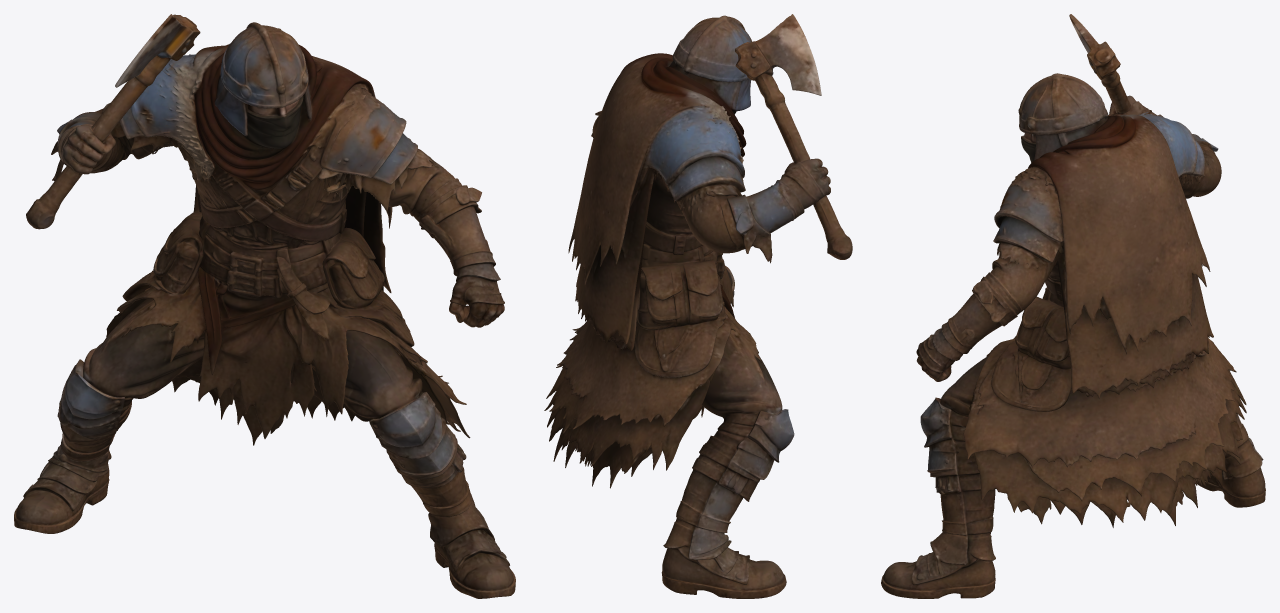
Rendered from enemy_bandit_warrior_01.glb.
3 renders of one model, left to right at view 1: azimuth 30°, elevation 25°; view 2: azimuth 150°, elevation 25°; view 3: azimuth 270°, elevation 25°, orthographic. The views are drawn at different scales.
Visible parts, largest first — view 1: material; view 2: material; view 3: material.
Part boxes in pixels (x1,y1,x2,y2): material: [14, 14, 515, 598]; material: [544, 14, 852, 598]; material: [881, 14, 1265, 598].
Bounding box in the file's own units: 0.6126 × 0.8873 × 0.6441.
1 material, 1 textured.
